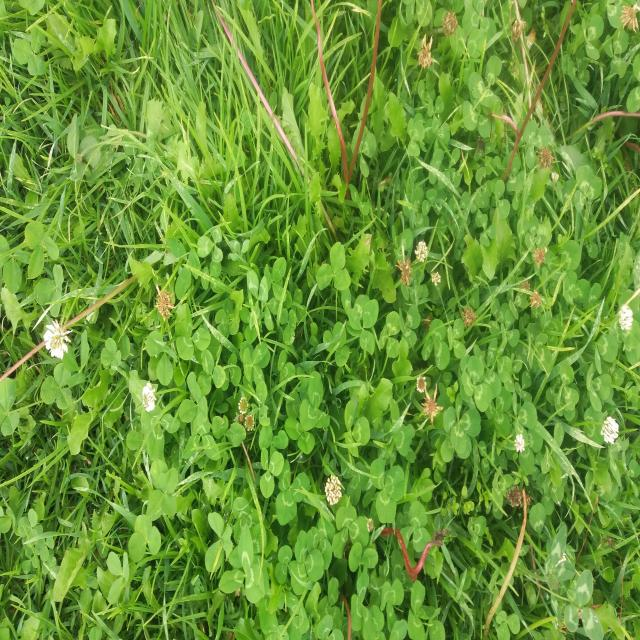Four Leaf Clover: (146, 458, 179, 520)
